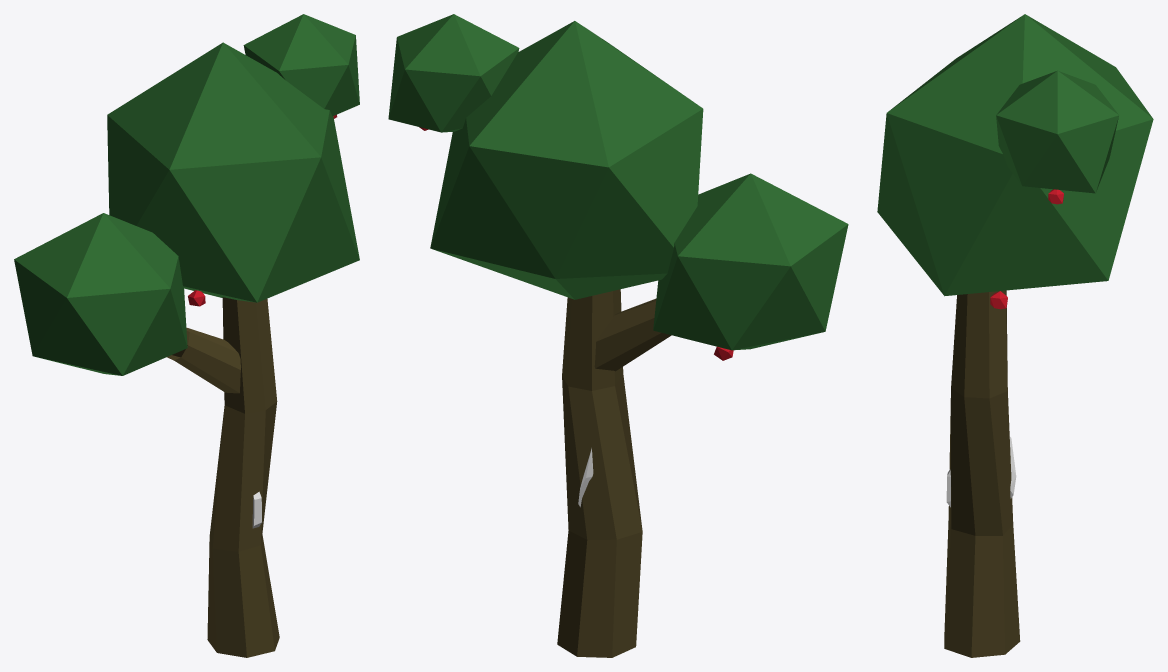
The model's file is TreeFantasy1.fbx.
3 renders of one model, left to right at view 1: azimuth 30°, elevation 25°; view 2: azimuth 150°, elevation 25°; view 3: azimuth 270°, elevation 25°, orthographic. The views are drawn at different scales.
Visible parts, largest first — view 1: Cylinder; view 2: Cylinder; view 3: Cylinder.
Part boxes in pixels (left/top/right/bottom): Cylinder: left=14, top=14, right=359, bottom=657; Cylinder: left=388, top=14, right=848, bottom=657; Cylinder: left=877, top=14, right=1153, bottom=657.
Size of the model in its own units: 1112 by 1735 by 692.
